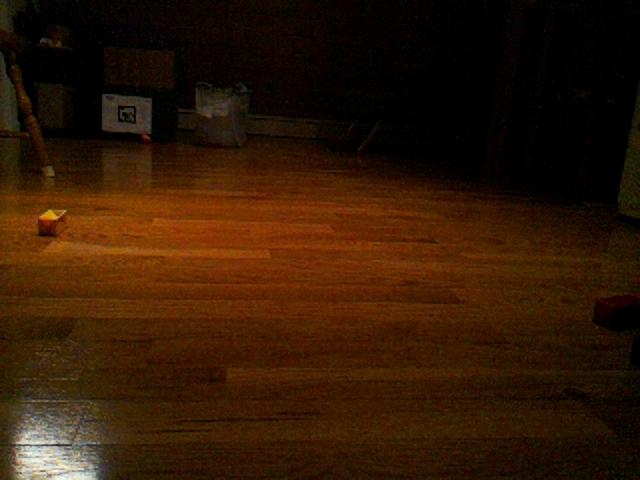yellow: (37, 208, 69, 237)
